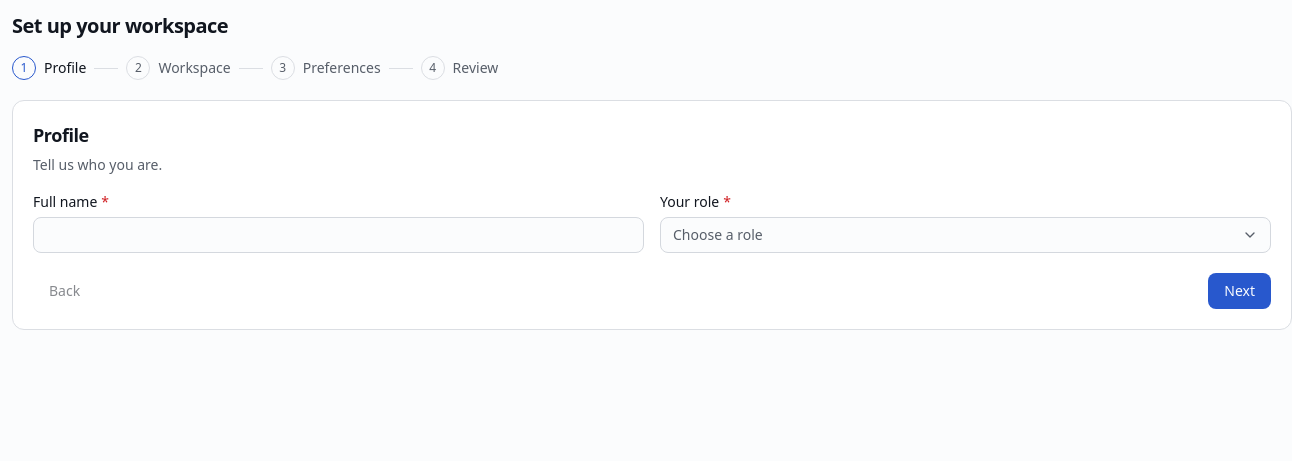
MultiStepOnboarding › validation › only checks the fields of the current step
In the field labelled "Full name": (338, 235) [33,217,644,253], type "Alex Nguyen"
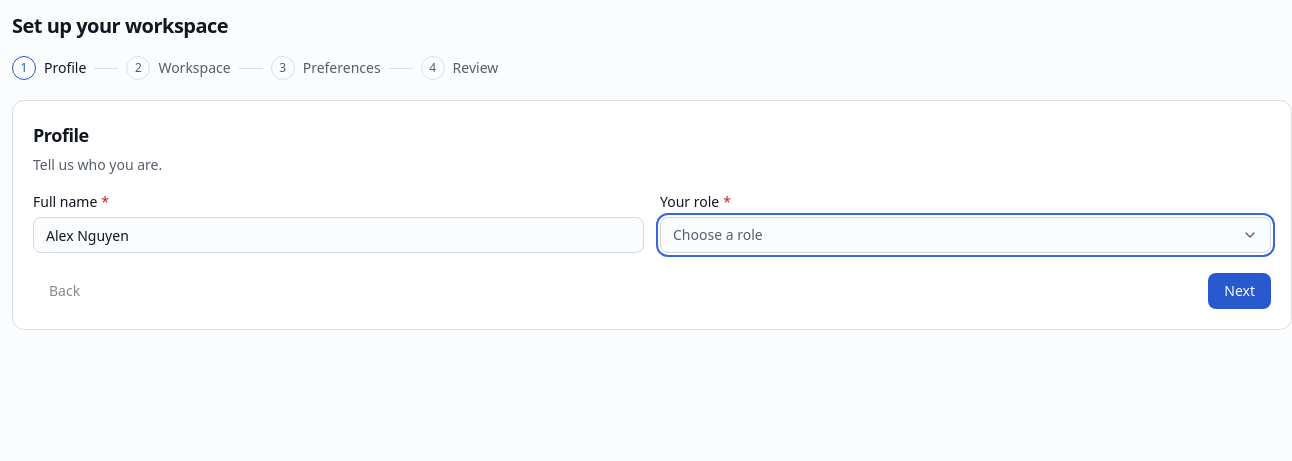
Press Enter
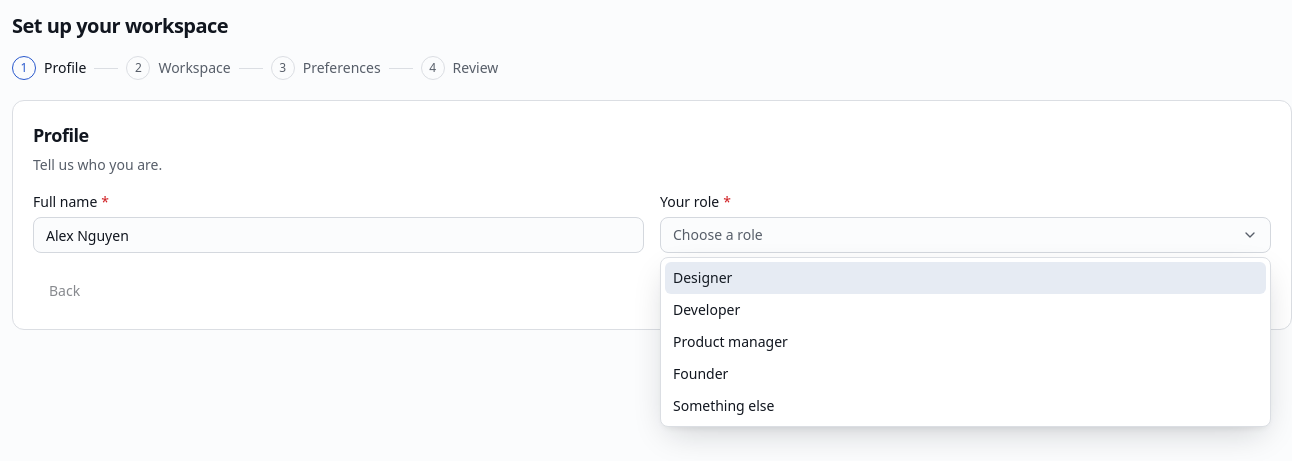
Click the option "Designer": click(703, 278) [665,262,1266,294]
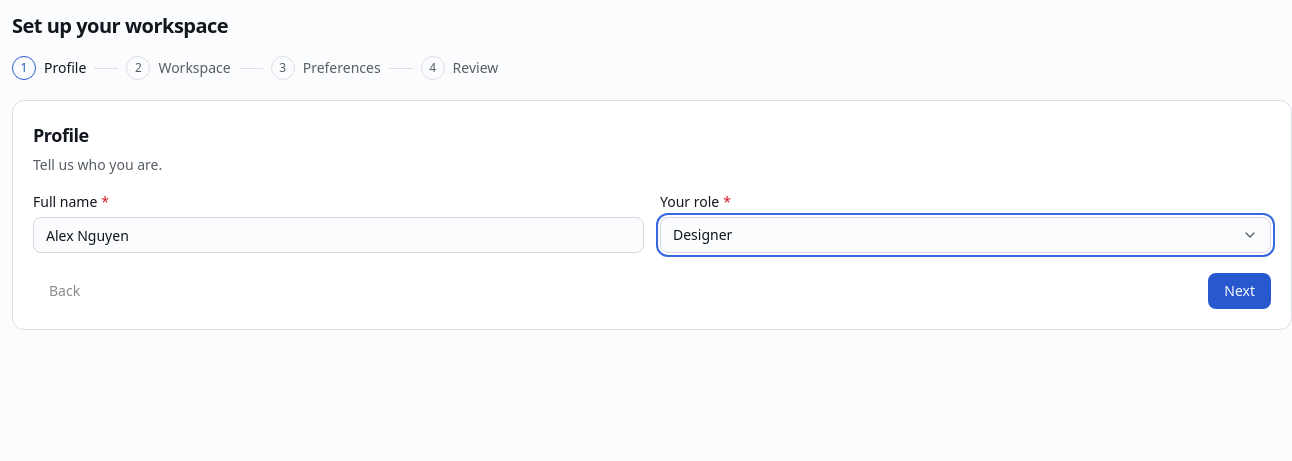
Click the button "Next": click(1240, 291) [1208,273,1271,309]
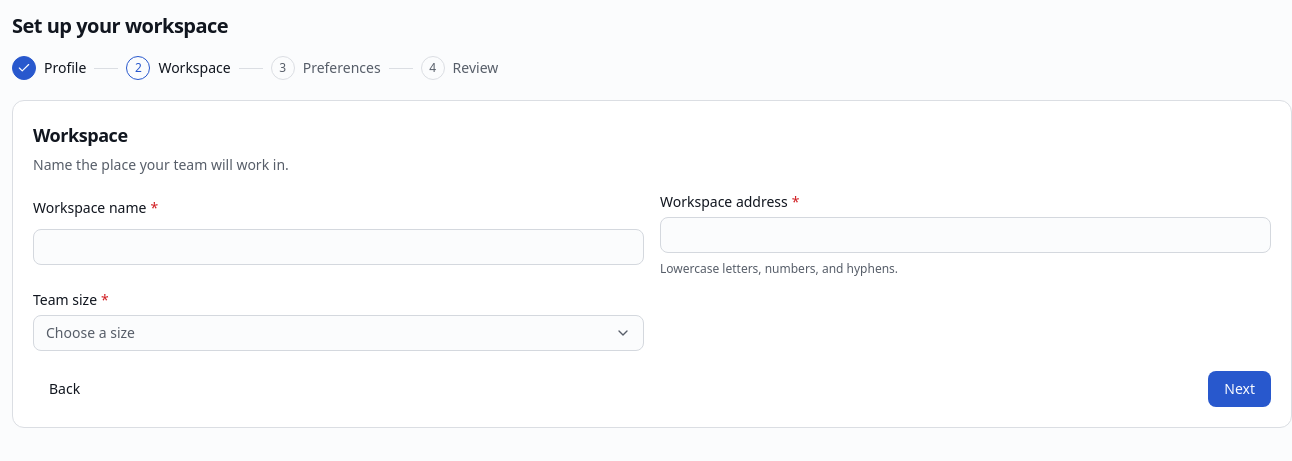
Expected: the heading "Workspace" is shown, [33,123,128,147]
